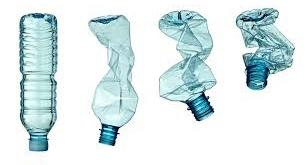Plastic: (85, 12, 140, 149), (155, 11, 215, 128), (15, 13, 59, 156), (234, 7, 295, 94)
